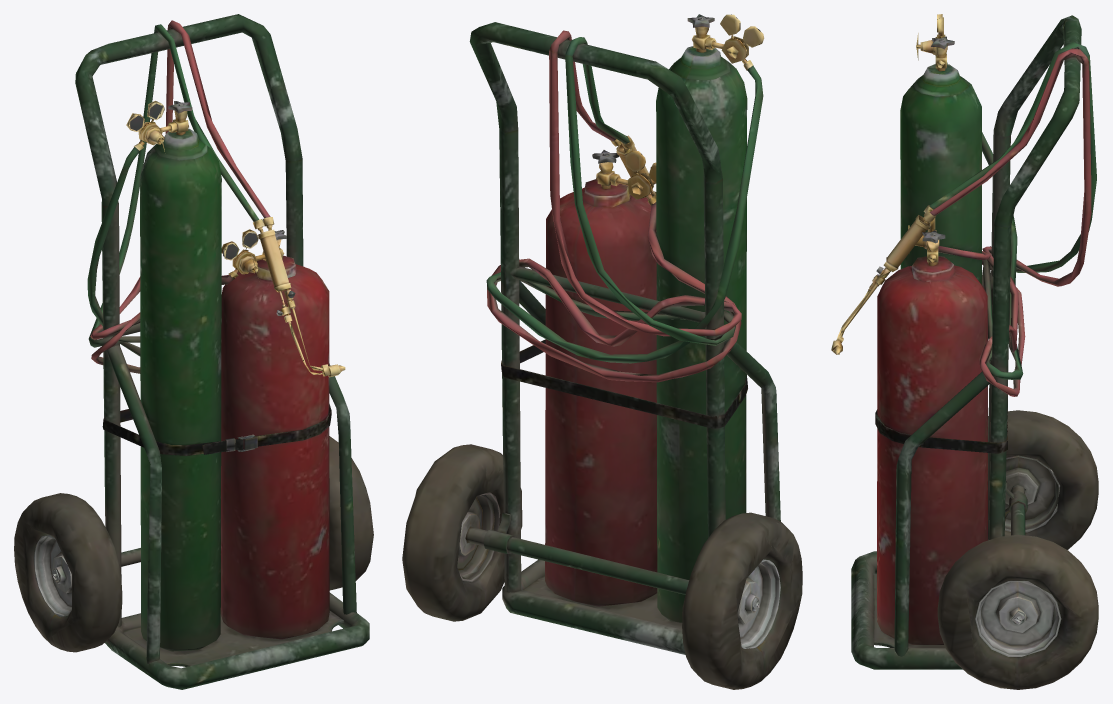
Rendered from portable_welding_cart.glb.
The picture shows the model from 3 angles, left to right: view 1: azimuth 30°, elevation 25°; view 2: azimuth 150°, elevation 25°; view 3: azimuth 270°, elevation 25°; orthographic projection. The views are drawn at different scales.
Visible parts, largest first — view 1: portable_welding_cart; view 2: portable_welding_cart; view 3: portable_welding_cart.
Boxes of the visible parts, x1,y1,x2,y2 form: portable_welding_cart: (14,14,373,689); portable_welding_cart: (402,14,802,689); portable_welding_cart: (831,14,1098,689).
Size of the model in its own units: 0.8366 by 1.56 by 0.655.
Materials: 2 (2 with a texture image).
